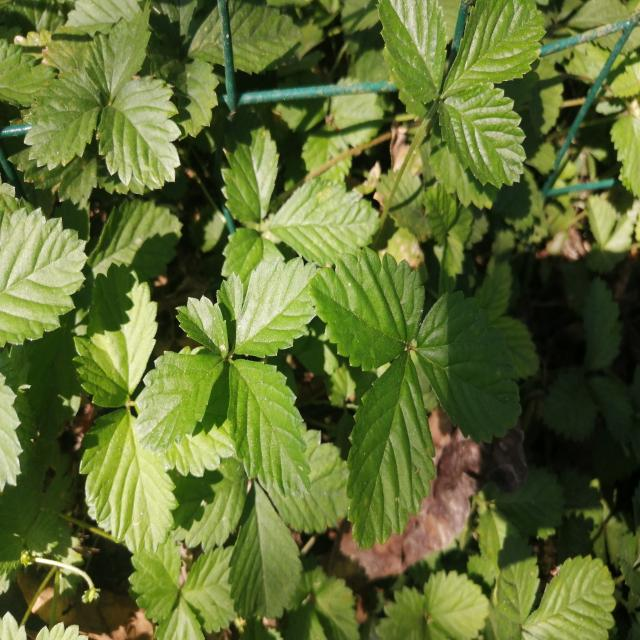Mock_strawberry: (306, 242, 538, 538), (148, 265, 352, 503)
